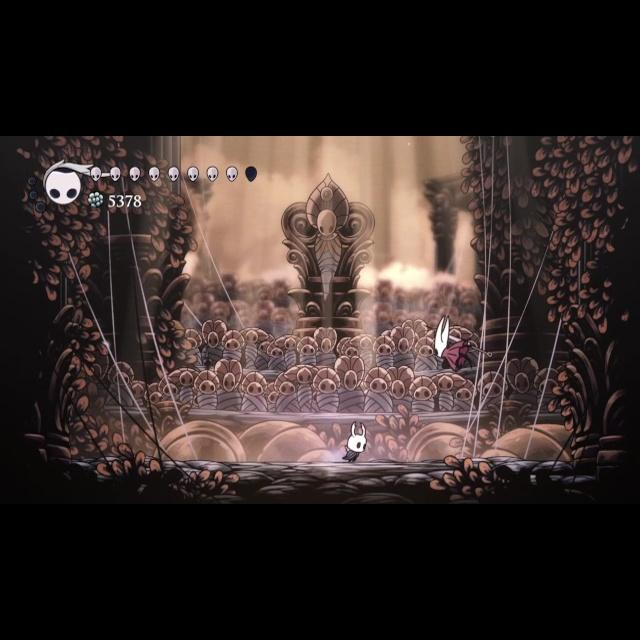EnemyLeadIn: (428, 312, 494, 378)
Player: (340, 420, 372, 466)
